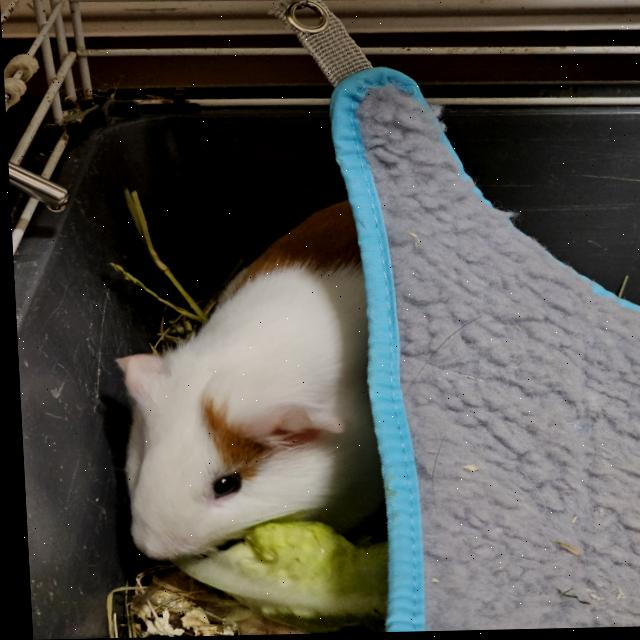guinea pig: (103, 193, 388, 566)
